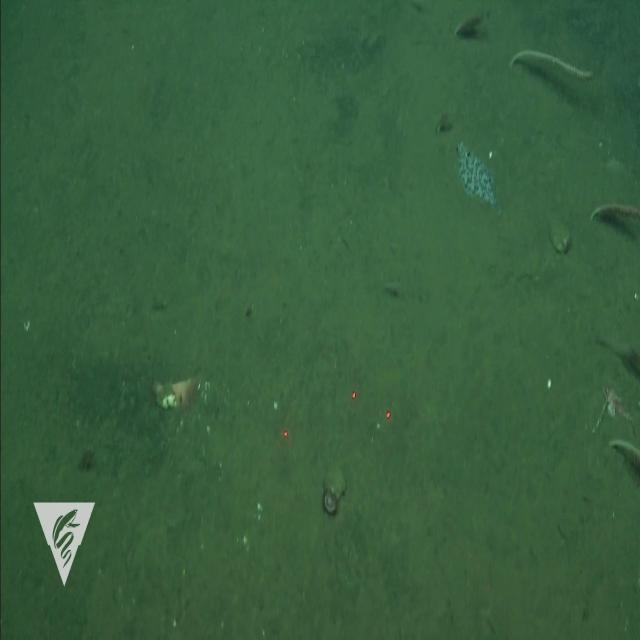Not Brittle Star: (454, 136, 505, 216)
